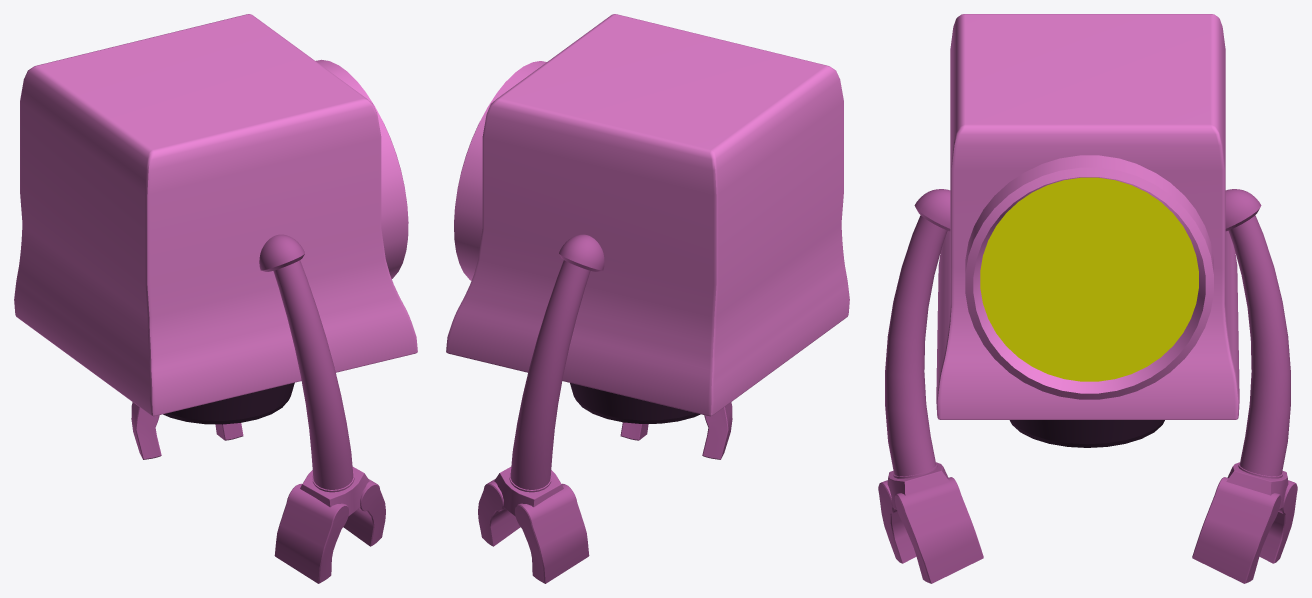
File: Robot.fbx
The picture shows the model from 3 angles, left to right: view 1: azimuth 30°, elevation 25°; view 2: azimuth 150°, elevation 25°; view 3: azimuth 270°, elevation 25°; orthographic projection. The views are drawn at different scales.
Parts seen in each view (by area): view 1: pCube1, pCylinder11, pCylinder14 (×2), polySurface1, pCylinder13, pCylinder10, pCube3, pSphere2; view 2: pCube1, pCylinder11, pCylinder14 (×2), polySurface1, pCylinder13, pCylinder10, pCube3, pSphere2; view 3: pCube1, polySurface2, pCylinder11 (×2), polySurface1, pCylinder10 (×2), pCylinder13, pCylinder14 (×2), pSphere2 (×2), pCube3 (×2).
Part boxes in pixels (x1=…): pCube1: x1=14, y1=14, x2=417, y2=416; pCylinder11: x1=273, y1=260, x2=354, y2=492; pCylinder14 (×2): x1=131, y1=402, x2=348, y2=583; polySurface1: x1=316, y1=59, x2=408, y2=278; pCylinder13: x1=163, y1=382, x2=294, y2=424; pCylinder10: x1=343, y1=479, x2=385, y2=546; pCube3: x1=300, y1=467, x2=369, y2=516; pSphere2: x1=259, y1=234, x2=304, y2=271; pCube1: x1=446, y1=14, x2=849, y2=416; pCylinder11: x1=509, y1=260, x2=590, y2=492; pCylinder14 (×2): x1=515, y1=402, x2=732, y2=583; polySurface1: x1=454, y1=61, x2=546, y2=280; pCylinder13: x1=570, y1=383, x2=700, y2=423; pCylinder10: x1=478, y1=479, x2=520, y2=546; pCube3: x1=494, y1=467, x2=563, y2=516; pSphere2: x1=559, y1=234, x2=604, y2=271; pCube1: x1=936, y1=14, x2=1239, y2=419; polySurface2: x1=980, y1=177, x2=1198, y2=381; pCylinder11 (×2): x1=885, y1=215, x2=1290, y2=478; polySurface1: x1=965, y1=155, x2=1213, y2=399; pCylinder10 (×2): x1=894, y1=477, x2=1281, y2=583; pCylinder13: x1=1009, y1=420, x2=1164, y2=447; pCylinder14 (×2): x1=878, y1=480, x2=1297, y2=563; pSphere2 (×2): x1=914, y1=189, x2=1261, y2=231; pCube3 (×2): x1=887, y1=462, x2=1288, y2=509.
Size of the model in its own units: 113 by 172 by 138.
